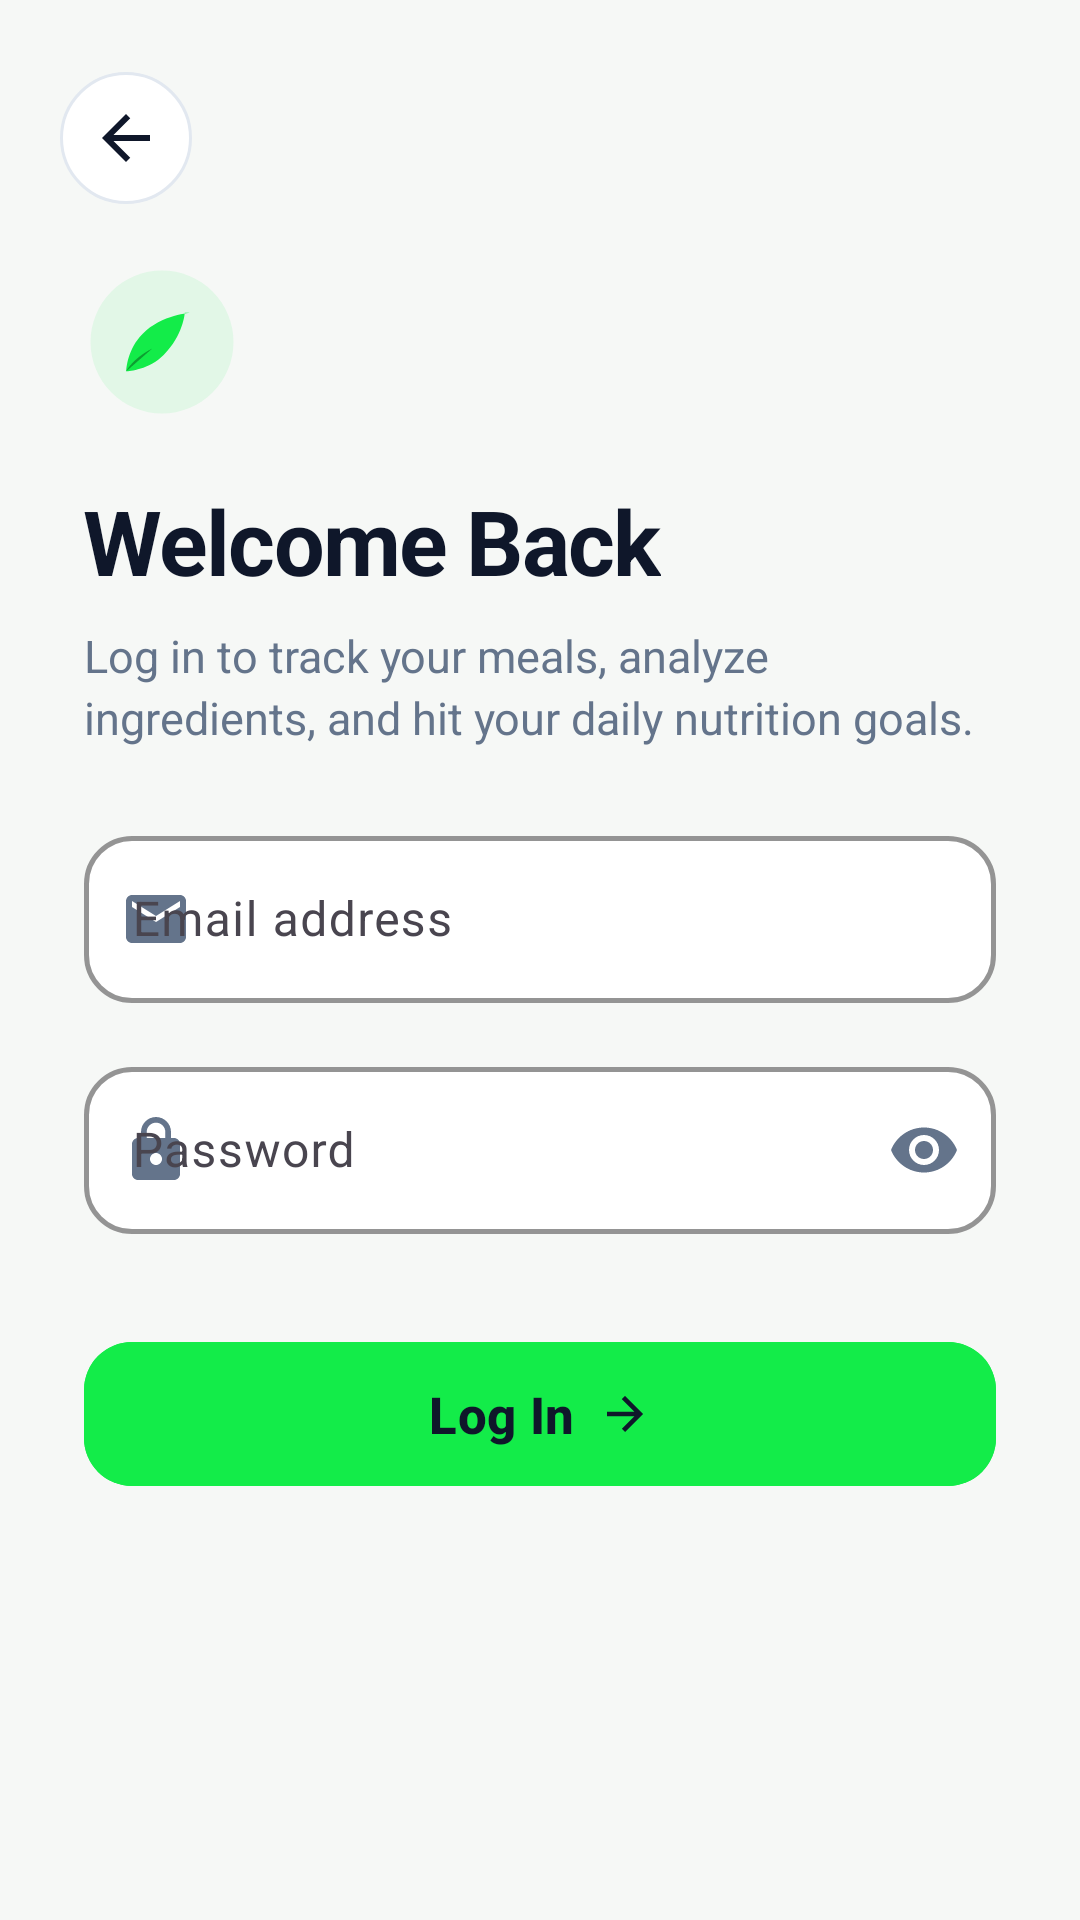

Where to tap for icons on this 1080x1920 app screen, as (x=x, y=y):
Back: (x=126, y=138)
